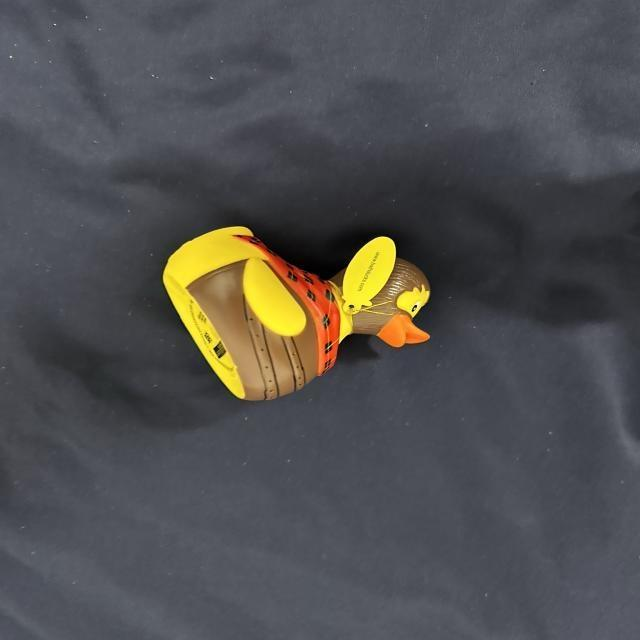rubber-duck: (162, 225, 428, 398)
